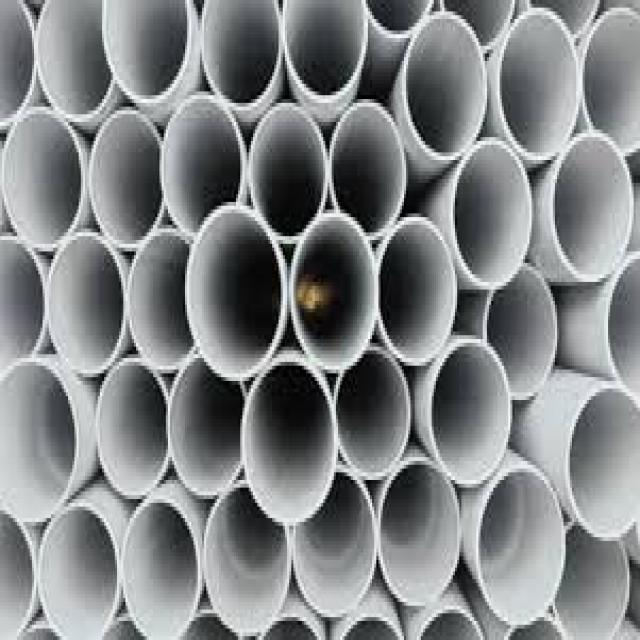pipe: (187, 209, 283, 381), (243, 360, 338, 526), (477, 467, 565, 625), (291, 215, 378, 373), (292, 471, 377, 623), (203, 487, 288, 636), (1, 359, 76, 523), (499, 12, 581, 160), (553, 132, 634, 279), (0, 109, 84, 250), (405, 15, 487, 159), (431, 342, 512, 486), (453, 142, 533, 286), (378, 219, 454, 367), (378, 464, 457, 605), (568, 387, 640, 541), (37, 502, 117, 640), (249, 103, 327, 242), (122, 500, 199, 640), (163, 98, 242, 233), (47, 235, 124, 373), (97, 362, 172, 503), (89, 114, 166, 251), (170, 360, 245, 497), (329, 102, 403, 240), (37, 0, 115, 120), (486, 269, 557, 399), (338, 351, 410, 475), (103, 1, 189, 103), (129, 231, 191, 370), (555, 525, 629, 640), (583, 7, 640, 152), (202, 0, 279, 105), (286, 0, 364, 97), (0, 238, 45, 373), (1, 514, 34, 640), (611, 262, 640, 403), (1, 0, 33, 125)
